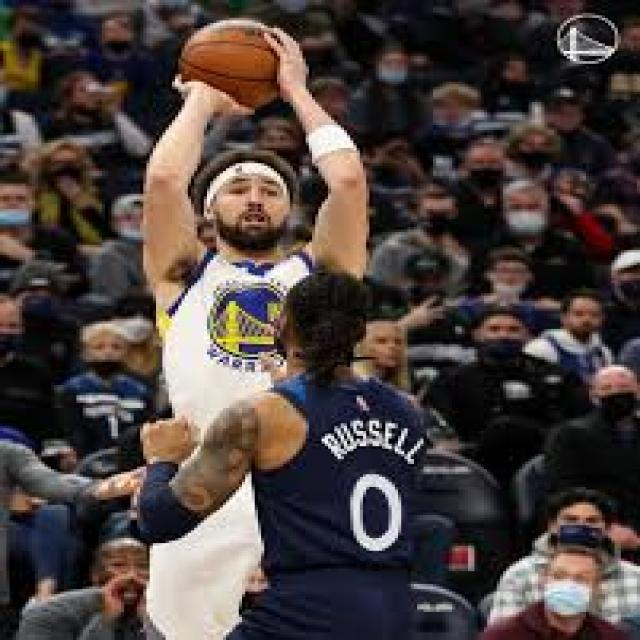rim: (182, 20, 284, 104)
